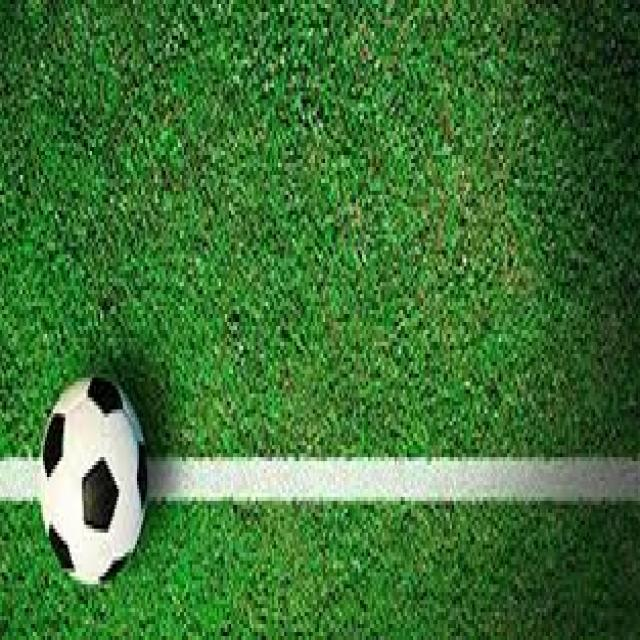ball: (40, 370, 148, 589)
